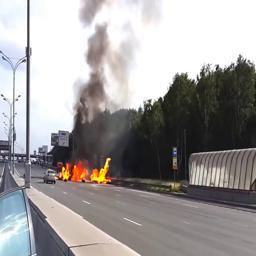fire: (58, 158, 112, 184)
